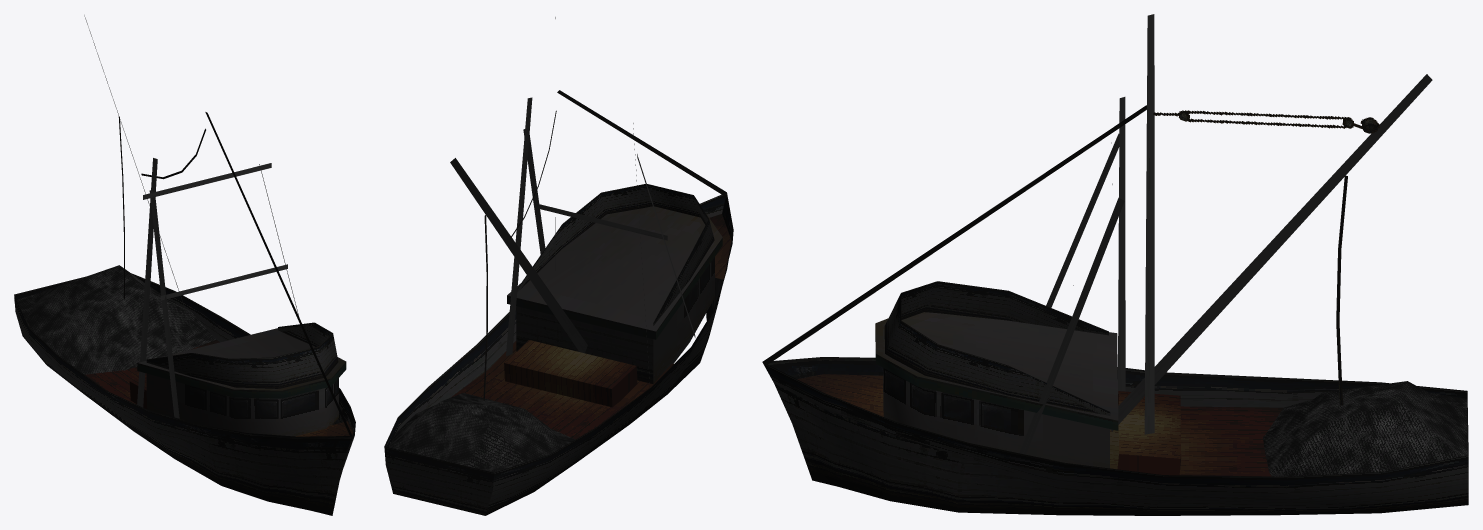
The model's file is cell_19_-1.gltf.
3 renders of one model, left to right at view 1: azimuth 30°, elevation 25°; view 2: azimuth 150°, elevation 25°; view 3: azimuth 270°, elevation 25°, orthographic. The views are drawn at different scales.
Visible parts, largest first — view 1: cell_19_-1; view 2: cell_19_-1; view 3: cell_19_-1.
Part boxes in pixels (box(x1,y1,x2,y2)): cell_19_-1: box(14, 15, 355, 515); cell_19_-1: box(384, 17, 733, 515); cell_19_-1: box(762, 14, 1468, 515).
Bounding box in the file's own units: 6.34 × 13.52 × 18.35.
6 materials, 6 textured.
